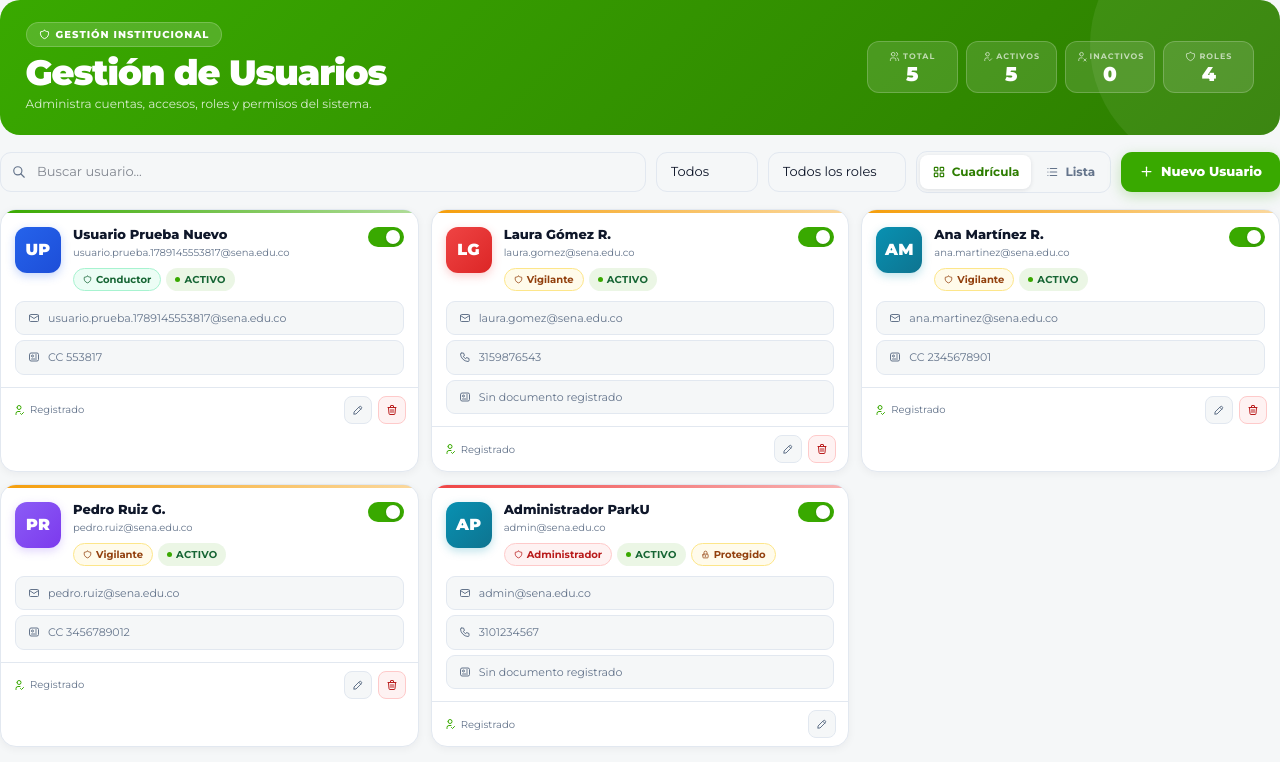
Usuarios › el tipo de usuario solo se pide para el rol Conductor
The image size is (1280, 762).
Expected: the text "Ana Martínez R." is shown, 934,226 -> 1044,242
Click the button "Nuevo Usuario": (1200, 172) 1121,152 -> 1279,192
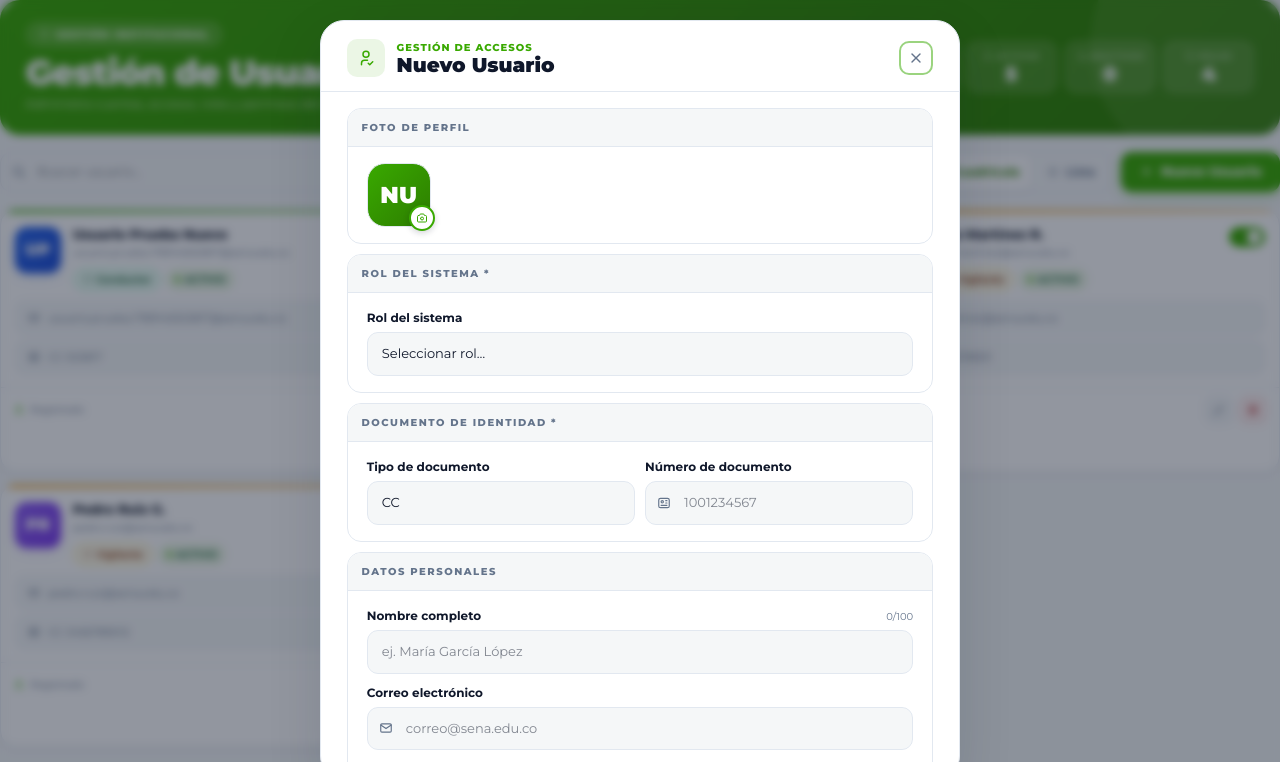
Expected: the field labelled "Tipo de usuario" is not shown
Expected: the heading "Nuevo Usuario" is shown, 397,55 -> 555,75
Select "Vigilante" in the dropdown named "Rol del sistema": (640, 354) 367,332 -> 913,376
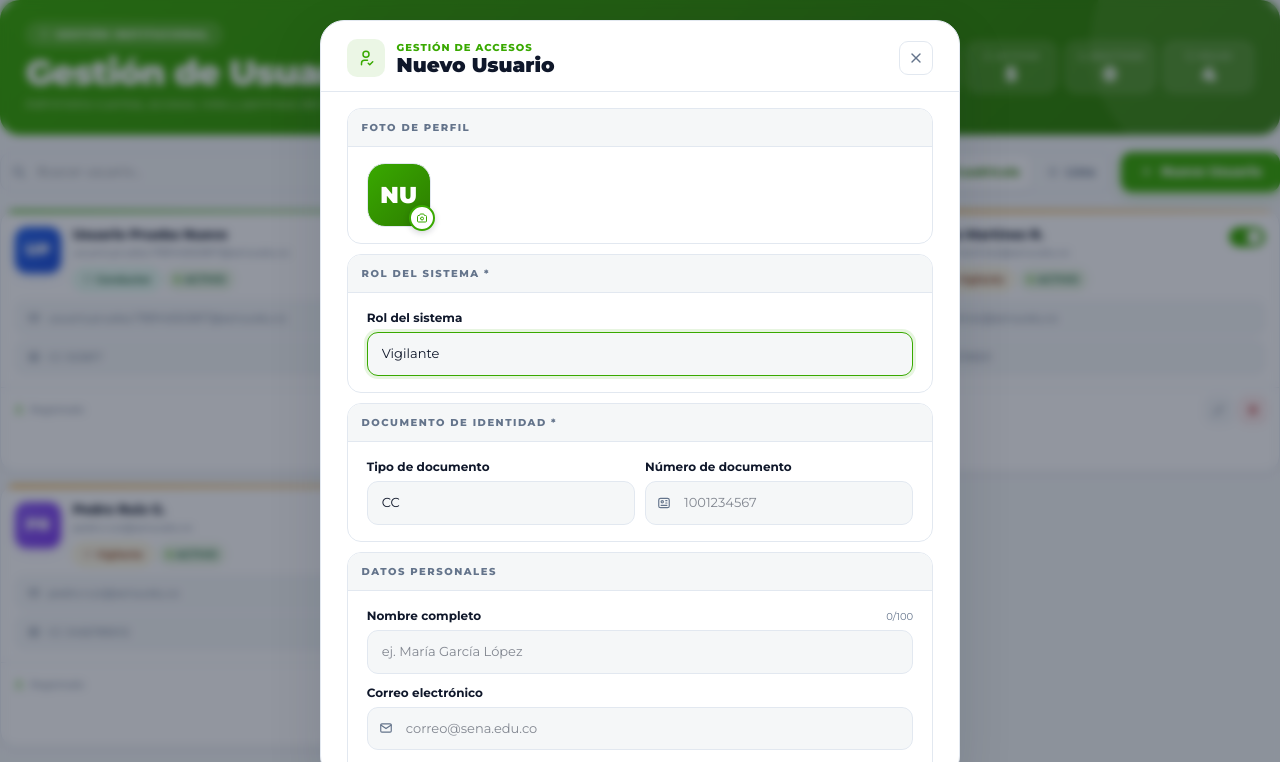
Expected: the field labelled "Tipo de usuario" is not shown
Select "Conductor" in the dropdown named "Rol del sistema": (640, 354) 367,332 -> 913,376
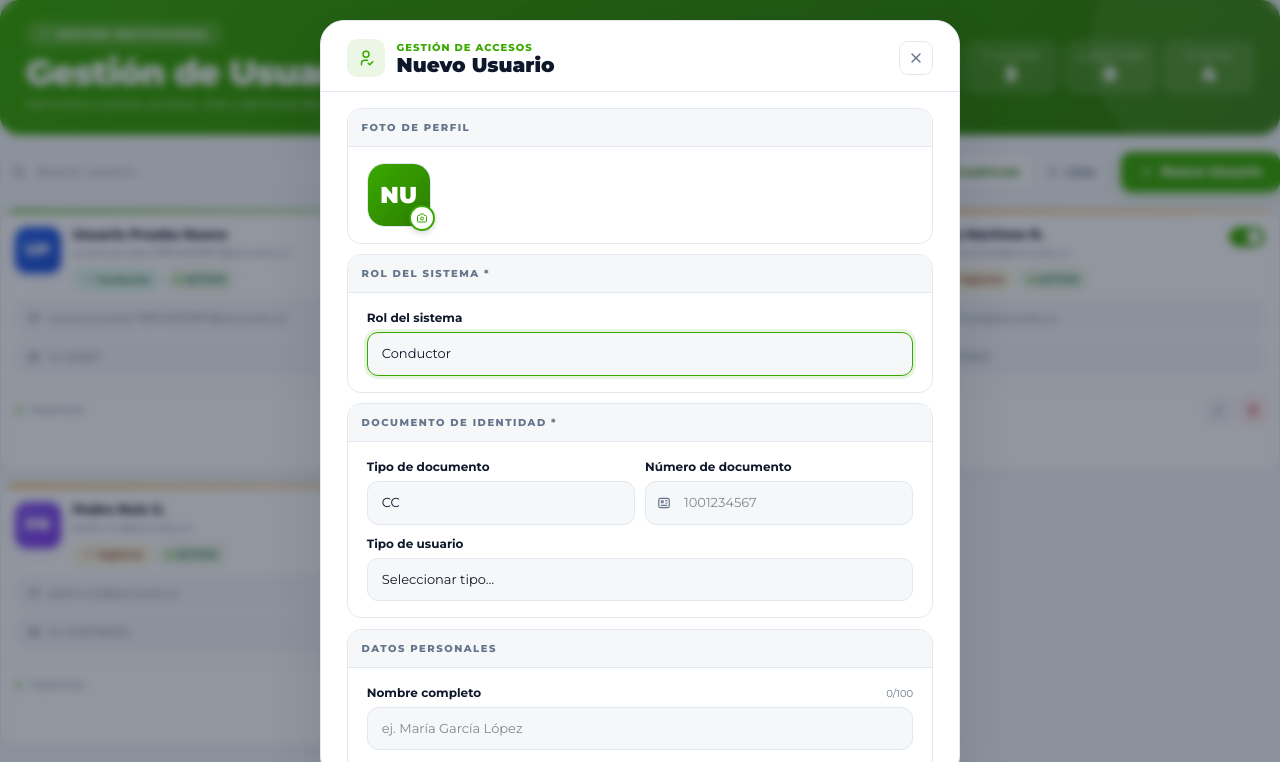
Expected: the dropdown named "Tipo de usuario" is shown, 367,558 -> 913,601
